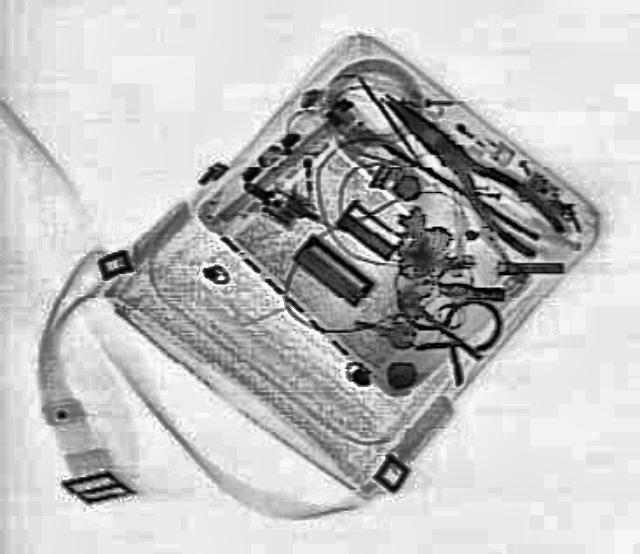Pliers: (357, 76, 575, 262)
